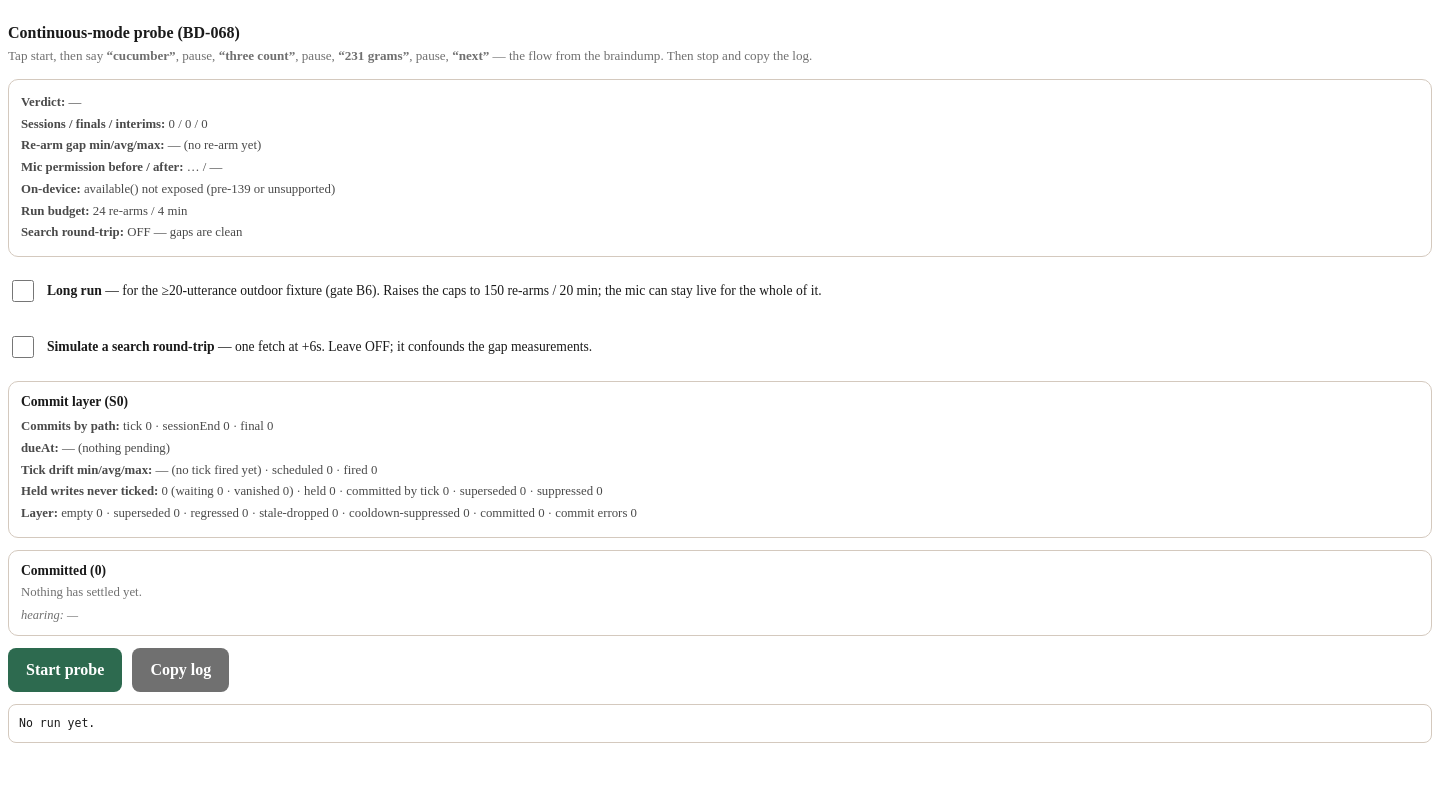
Test: ContinuousVoiceProbe — S0 debounce host › a bare "next" superseded by "next to the fence" saves nothing and becomes a search
Click the button "Start probe". click: click(65, 670)
box: [8,648,122,692]
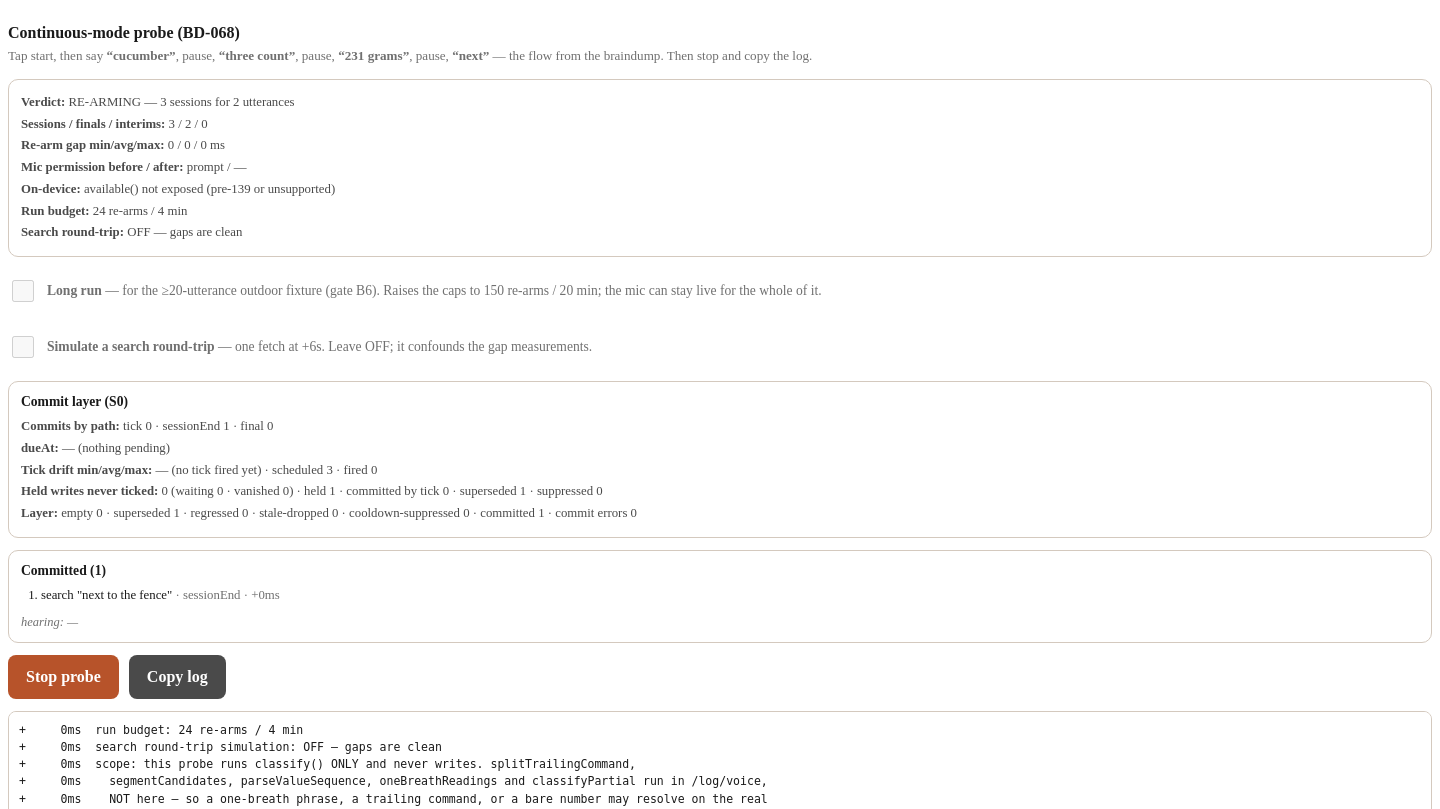
Expected: the list item with test id "voice-commit-row" shows "search \"next to the fence\"", [41,588,172,602]
Expected: the element with test id "voice-held-writes" shows "superseded 1", [21,484,603,498]
